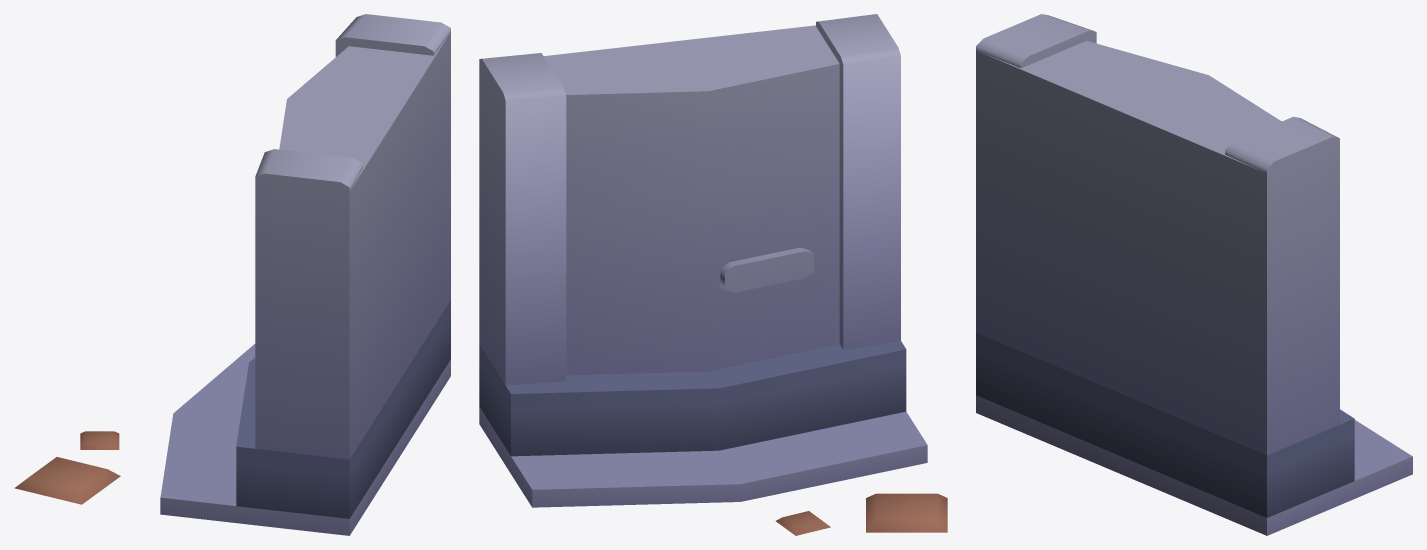
Rendered from template_wall_half__2_2_lev1.glb.
3 views of the same model, side by side, from view 1: azimuth 30°, elevation 25°; view 2: azimuth 150°, elevation 25°; view 3: azimuth 270°, elevation 25° (orthographic). The views are drawn at different scales.
Parts seen in each view (by area): view 1: template_wall_half__2_2_lev1; view 2: template_wall_half__2_2_lev1; view 3: template_wall_half__2_2_lev1.
Boxes of the visible parts, x1,y1,x2,y2 form: template_wall_half__2_2_lev1: (14,14,450,535); template_wall_half__2_2_lev1: (479,14,947,535); template_wall_half__2_2_lev1: (976,14,1412,535).
Bounding box in the file's own units: 2.44 × 1.86 × 1.98.
Materials: 1 (1 with a texture image).
